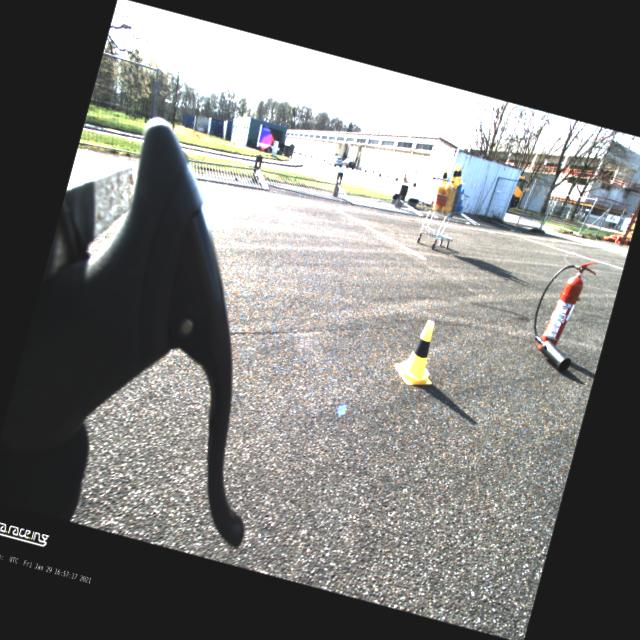blue_cone: (454, 186, 466, 207)
large_orange_cone: (614, 233, 620, 243)
yellow_cone: (391, 314, 446, 390), (448, 162, 463, 185), (454, 163, 466, 186), (438, 166, 450, 186)
